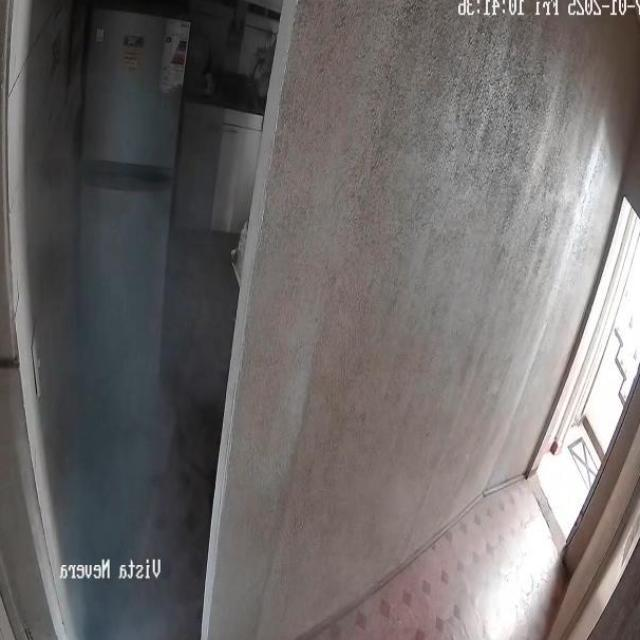fire: (45, 91, 234, 640)
